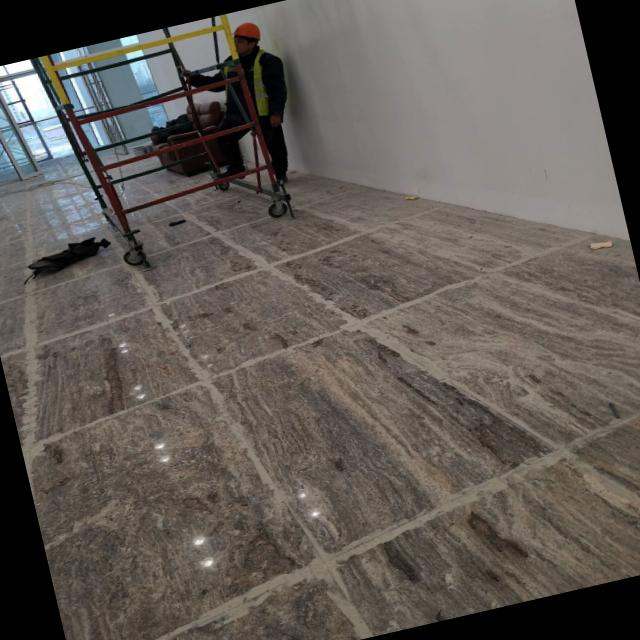Helmet: (231, 21, 263, 47)
Jacket: (243, 46, 284, 121)
